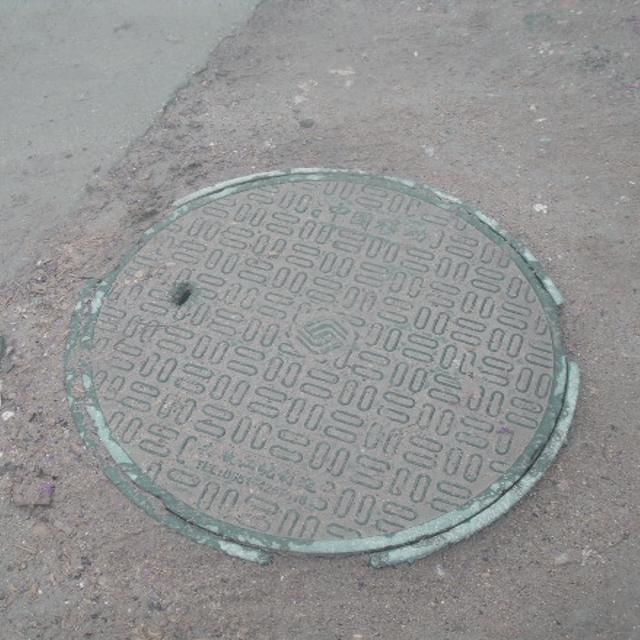good: (66, 165, 578, 566)
